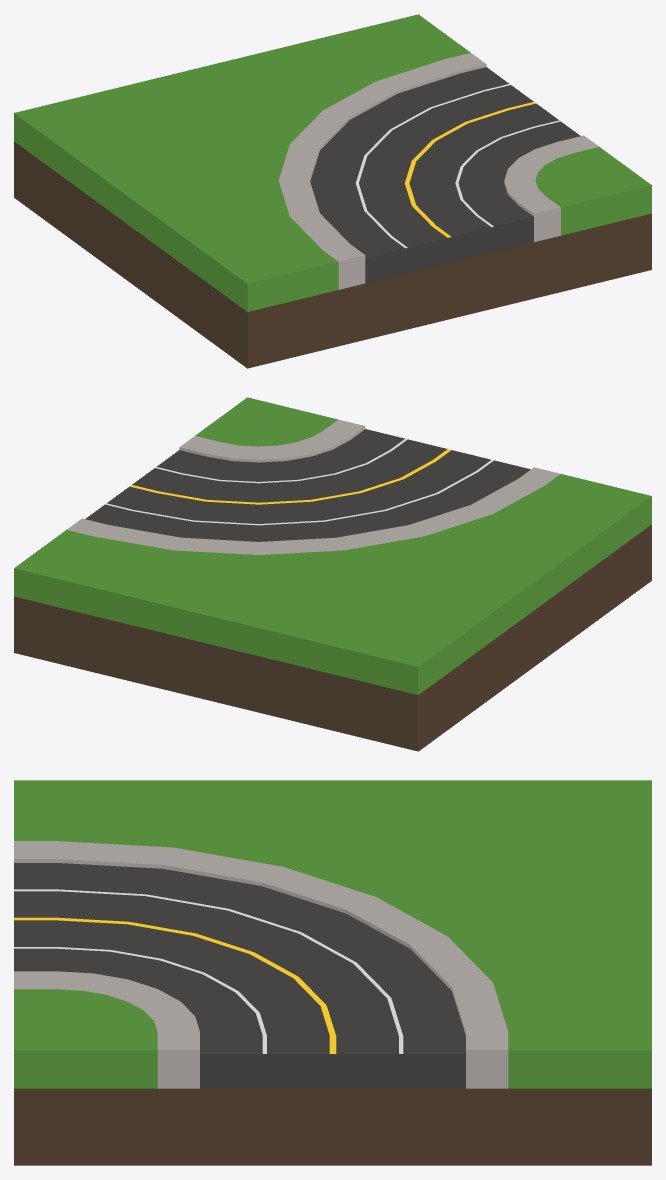
The model's file is tile-mainroad-curve.glb.
3 views of the same model, one above another, from view 1: azimuth 30°, elevation 25°; view 2: azimuth 150°, elevation 25°; view 3: azimuth 270°, elevation 25° (orthographic). The views are drawn at different scales.
Parts seen in each view (by area): view 1: tile-mainroad-curve; view 2: tile-mainroad-curve; view 3: tile-mainroad-curve.
Part boxes in pixels (x1,y1,x2,y2): tile-mainroad-curve: (14,14,651,368); tile-mainroad-curve: (14,397,651,751); tile-mainroad-curve: (14,780,651,1165).
Bounding box in the file's own units: 30 × 6 × 30.
Materials: 1 (1 with a texture image).
